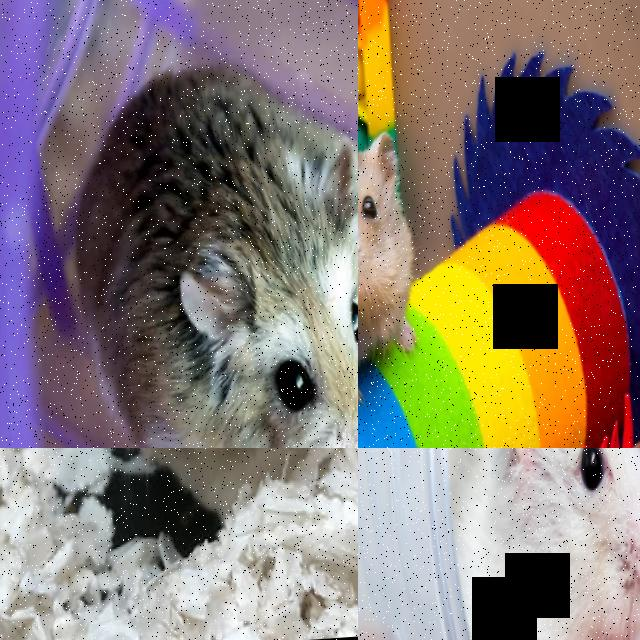hamster: (59, 47, 358, 448), (440, 448, 640, 640), (32, 448, 340, 537), (358, 128, 431, 417)
